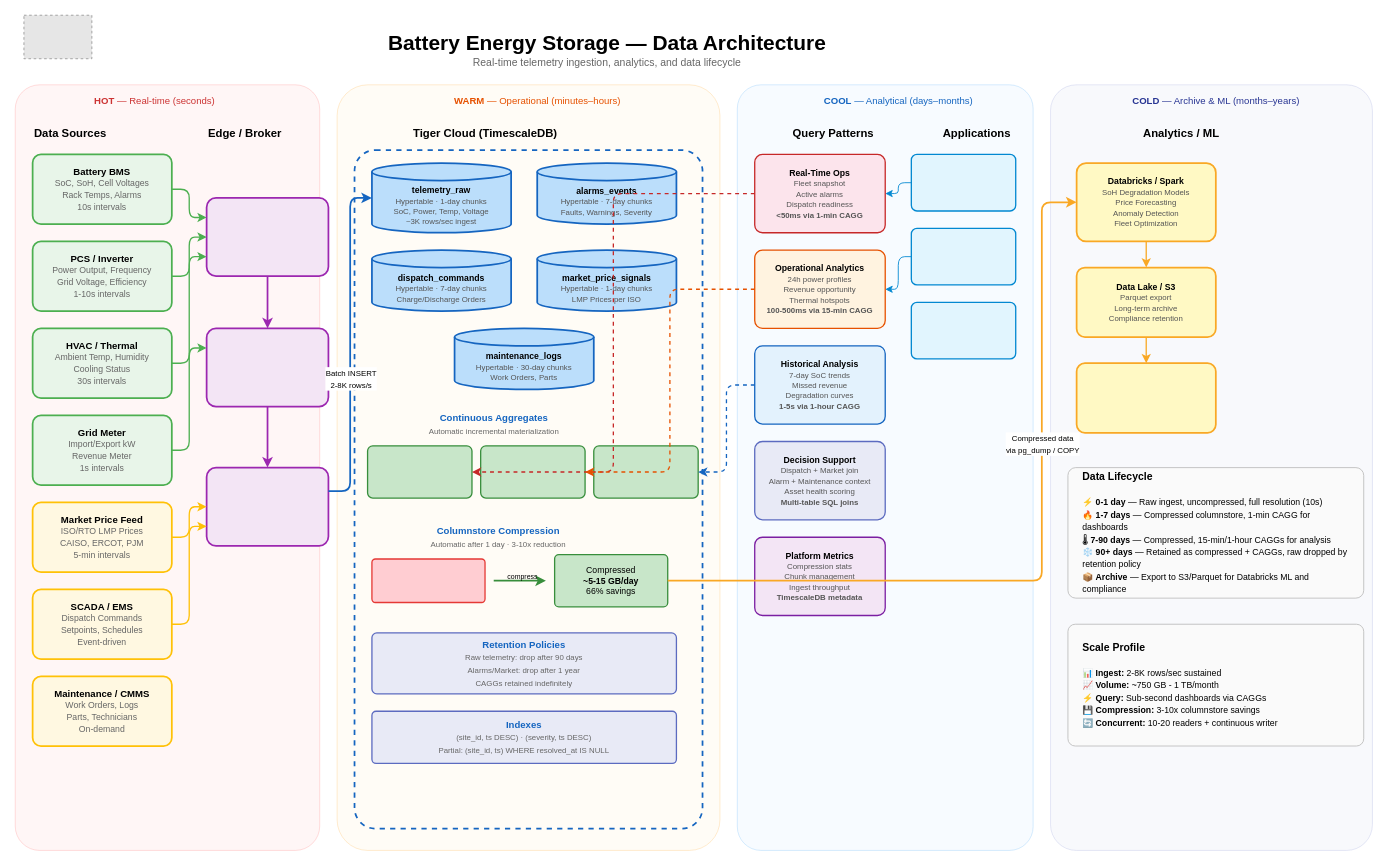
This 1388x866 diagram has some shape labels left out. Grey dashed boxes stand in for pictures. The box of each missing label's shape, as (x1, y1, x2, y2) in pixels:
1-hour rollup Historical trends Refresh: every 1 hr: (593, 445, 698, 498)
1-min rollup Real-time dashboards Refresh: every 1 min: (367, 445, 472, 498)
15-min rollup Intraday analysis Refresh: every 15 min: (480, 445, 585, 498)
BI / Reporting Tableau / PowerBI Executive dashboards Revenue reporting: (1075, 362, 1216, 433)
Edge Gateway Protocol Translation Modbus → MQTT Local Buffering: (205, 197, 329, 277)
Grafana Custom dashboards Alerting rules: (910, 227, 1016, 285)
Ingest Worker Batch INSERT / COPY Schema Validation 2-8K rows/sec: (205, 466, 329, 546)
MQTT / Kafka Message Broker Topic per Site/Asset Pub/Sub Delivery: (205, 327, 329, 407)
Ops Dashboard Next.js / React Real-time fleet view: (910, 153, 1016, 211)
Raw Chunks (today) ~30-60 GB/day: (371, 558, 485, 603)
REST / GraphQL API Integration layer 3rd party access: (910, 301, 1016, 359)
